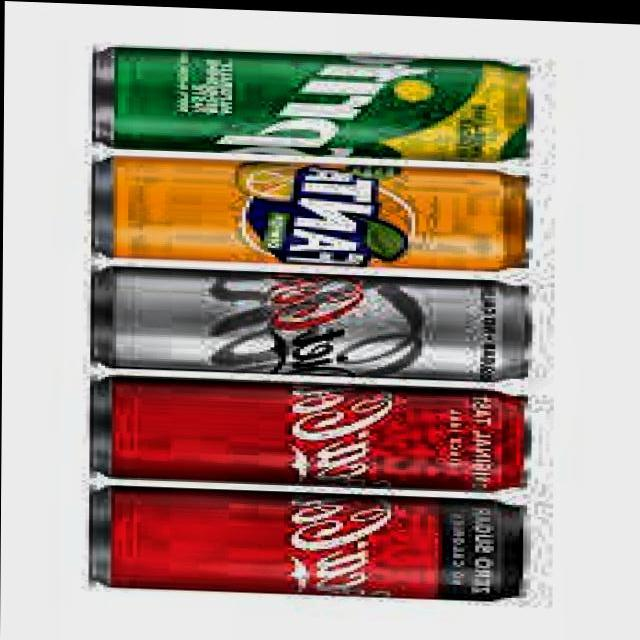litter: (80, 480, 538, 606), (86, 36, 539, 162), (87, 369, 542, 492), (89, 148, 538, 272), (84, 261, 540, 381)
